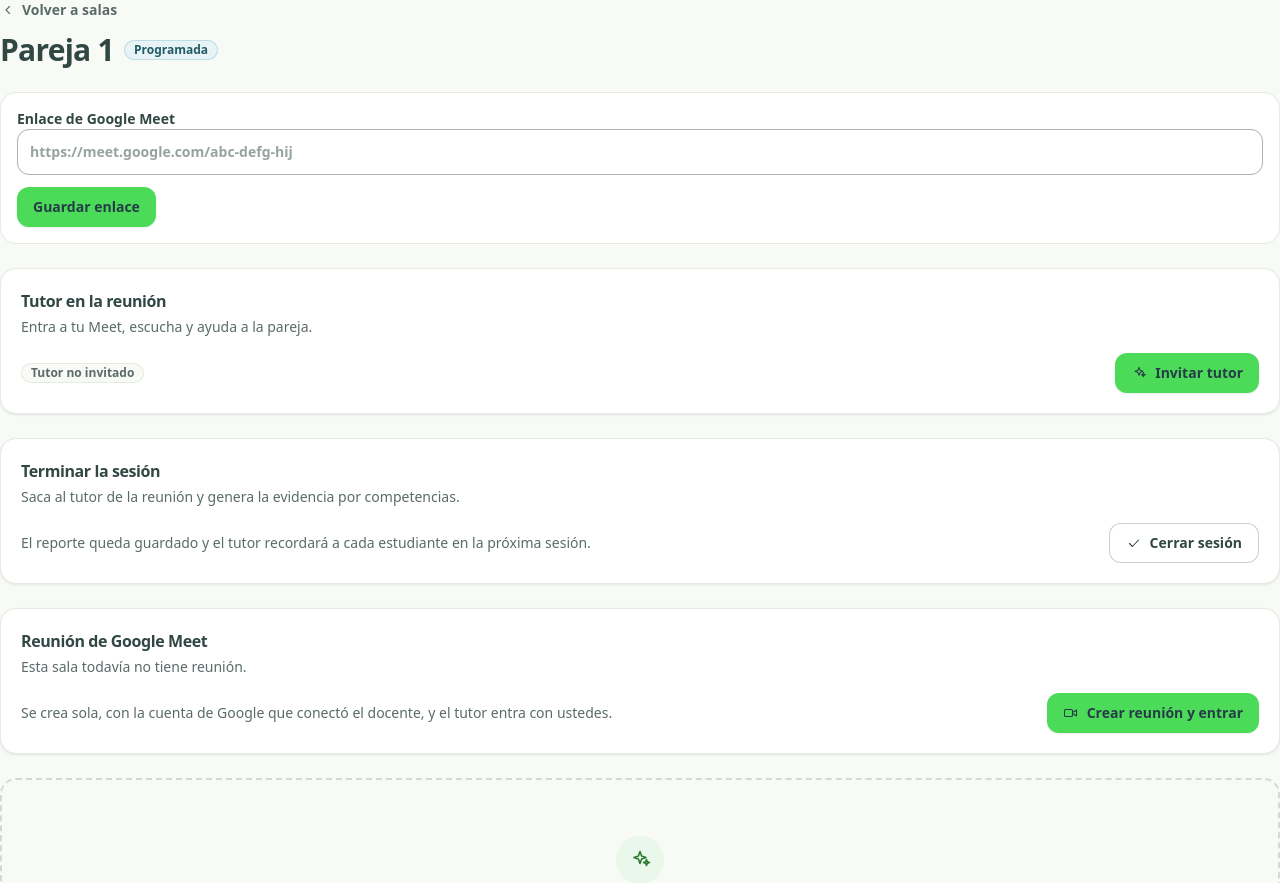
Test: SessionDetailPage: closing the session › closes with the session id and shows the report right away, replacing the invite and close buttons
Step 1. Click the button "Cerrar sesión" → (1184, 543), box top-left (1109, 523), bottom-right (1259, 563)
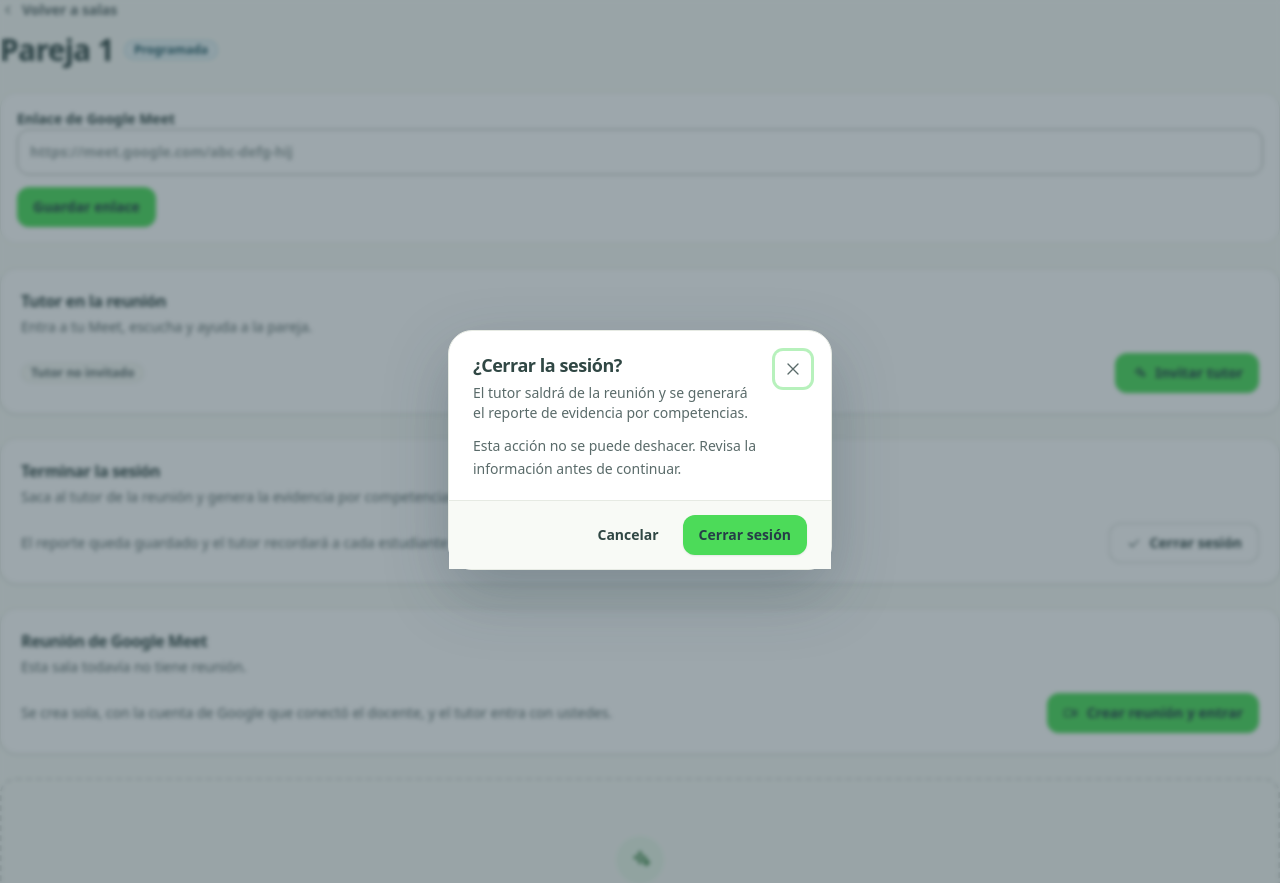
Step 2. Click the button "Cerrar sesión" → (745, 535), box top-left (683, 515), bottom-right (807, 555)
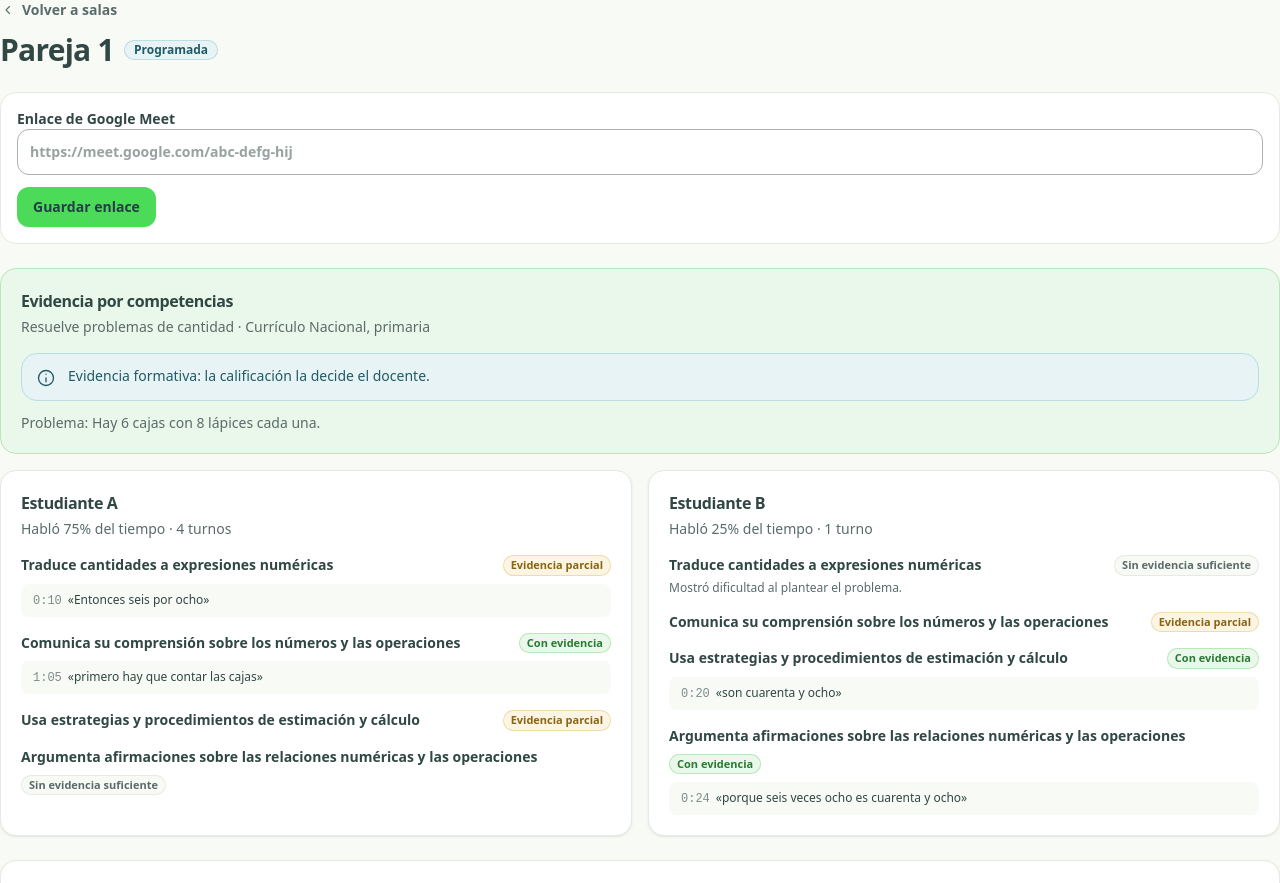
Expected: the element "Evidencia por competencias" is shown
Expected: the button "Cerrar sesión" is gone
Expected: the button "Invitar tutor" is gone
